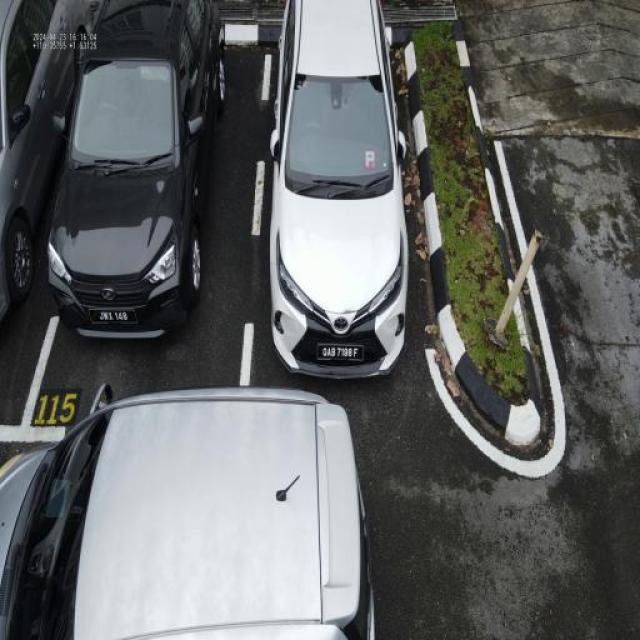Legalparking: (0, 0, 640, 353)
illegalparking: (0, 368, 640, 640)
